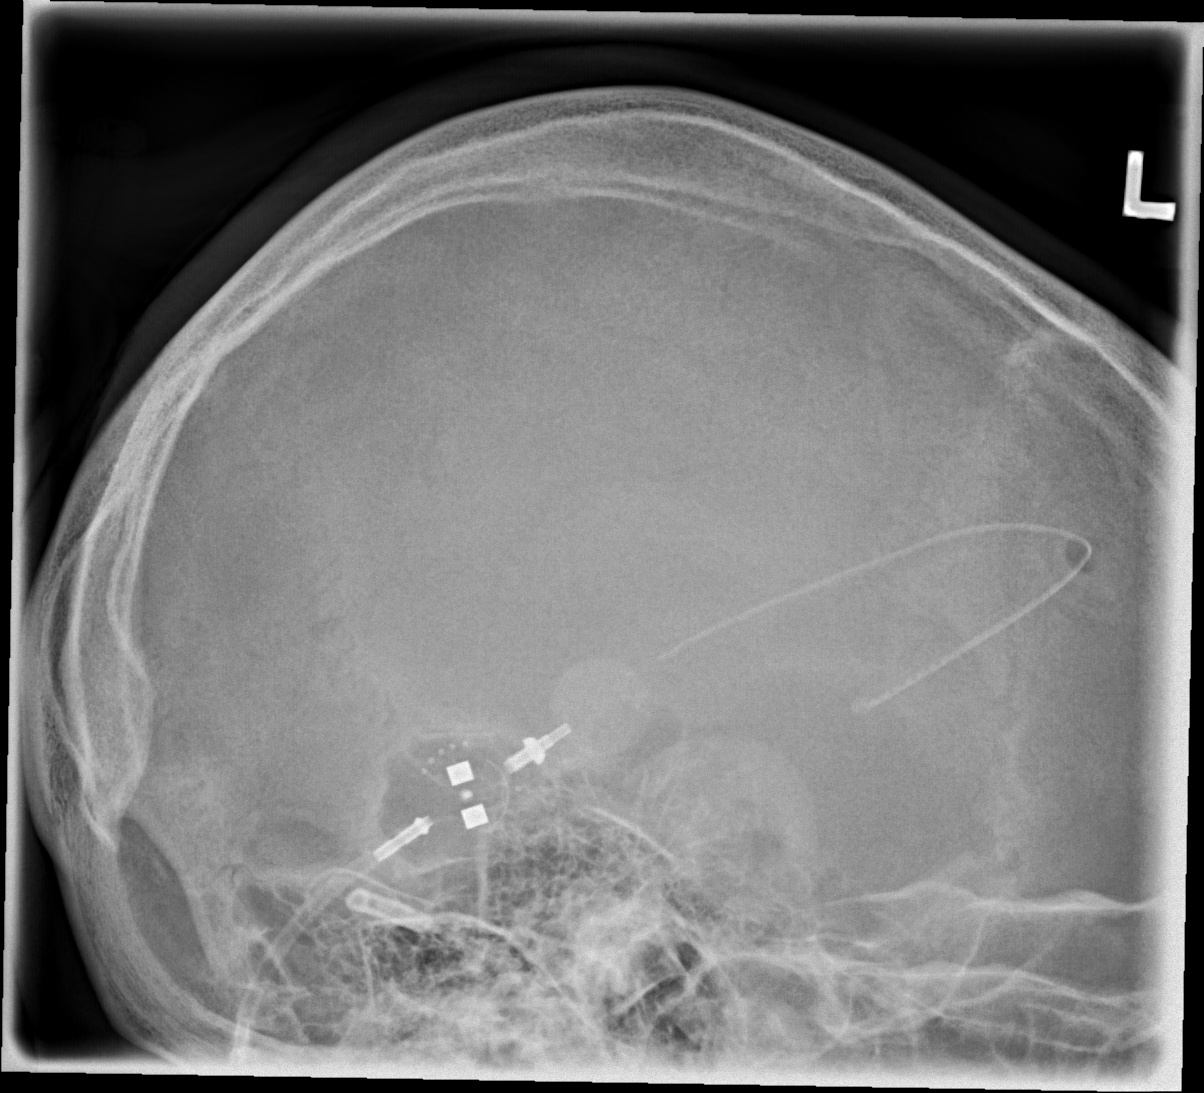Sophysa Polaris: (387, 730, 530, 852)
